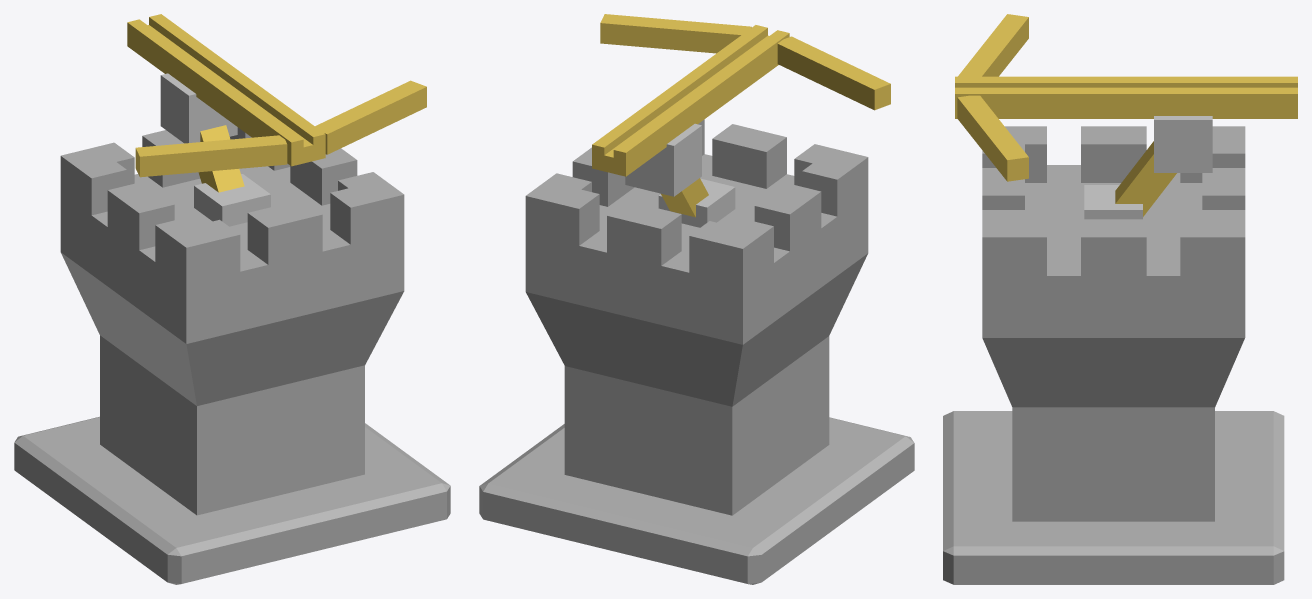
The model's file is sniper_turet.fbx.
The picture shows the model from 3 angles, left to right: view 1: azimuth 30°, elevation 25°; view 2: azimuth 150°, elevation 25°; view 3: azimuth 270°, elevation 25°; orthographic projection. The views are drawn at different scales.
Visible parts, largest first — view 1: Cube.035, Cube, Cube.034, simple_turet_mid.001, simple_turet_left.001, simple_turet_right.001, Cube.031, Cube.032, Cube.033; view 2: Cube.035, Cube, Cube.034, simple_turet_mid.001, simple_turet_right.001, simple_turet_left.001, Cube.031, Cube.032, Cube.033; view 3: Cube.035, Cube, Cube.034, simple_turet_mid.001, Cube.031, simple_turet_right.001, simple_turet_left.001, Cube.033, Cube.032.
Part boxes in pixels (<box>): Cube.035: <box>60,166,404,515</box>; Cube: <box>14,416,450,584</box>; Cube.034: <box>60,127,404,284</box>; simple_turet_mid.001: <box>127,14,325,166</box>; simple_turet_left.001: <box>135,135,287,177</box>; simple_turet_right.001: <box>315,80,426,154</box>; Cube.031: <box>160,73,237,143</box>; Cube.032: <box>194,174,270,226</box>; Cube.033: <box>198,125,244,192</box>; Cube.035: <box>525,154,868,515</box>; Cube: <box>479,417,914,584</box>; Cube.034: <box>525,119,868,285</box>; simple_turet_mid.001: <box>592,25,789,176</box>; simple_turet_right.001: <box>600,14,751,53</box>; simple_turet_left.001: <box>777,36,890,110</box>; Cube.031: <box>625,123,701,196</box>; Cube.032: <box>658,178,735,227</box>; Cube.033: <box>661,178,708,217</box>; Cube.035: <box>982,165,1245,521</box>; Cube: <box>943,411,1284,584</box>; Cube.034: <box>982,126,1245,275</box>; simple_turet_mid.001: <box>955,76,1297,118</box>; Cube.031: <box>1154,116,1212,172</box>; simple_turet_right.001: <box>957,95,1028,181</box>; simple_turet_left.001: <box>958,14,1028,76</box>; Cube.033: <box>1115,141,1176,216</box>; Cube.032: <box>1084,185,1142,219</box>.
Size of the model in its own units: 406 by 558 by 416.
